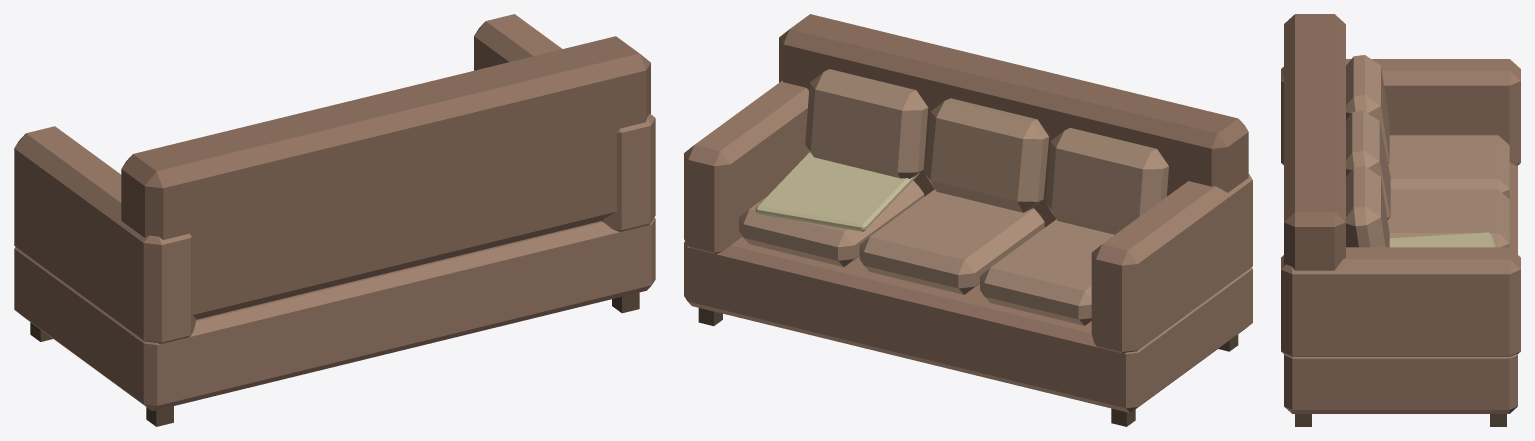
Rendered from couch.glb.
3 views of the same model, side by side, from view 1: azimuth 30°, elevation 25°; view 2: azimuth 150°, elevation 25°; view 3: azimuth 270°, elevation 25° (orthographic). The views are drawn at different scales.
Visible parts, largest first — view 1: couch; view 2: couch; view 3: couch.
Part boxes in pixels (<box>): couch: <box>14,14,655,426</box>; couch: <box>684,14,1252,426</box>; couch: <box>1281,14,1520,426</box>.
Bounding box in the file's own units: 1.76 × 0.84 × 0.85.
